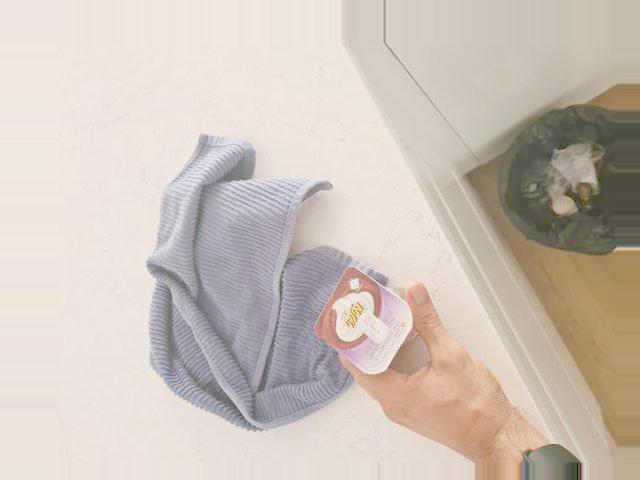milky: (319, 265, 417, 370)
